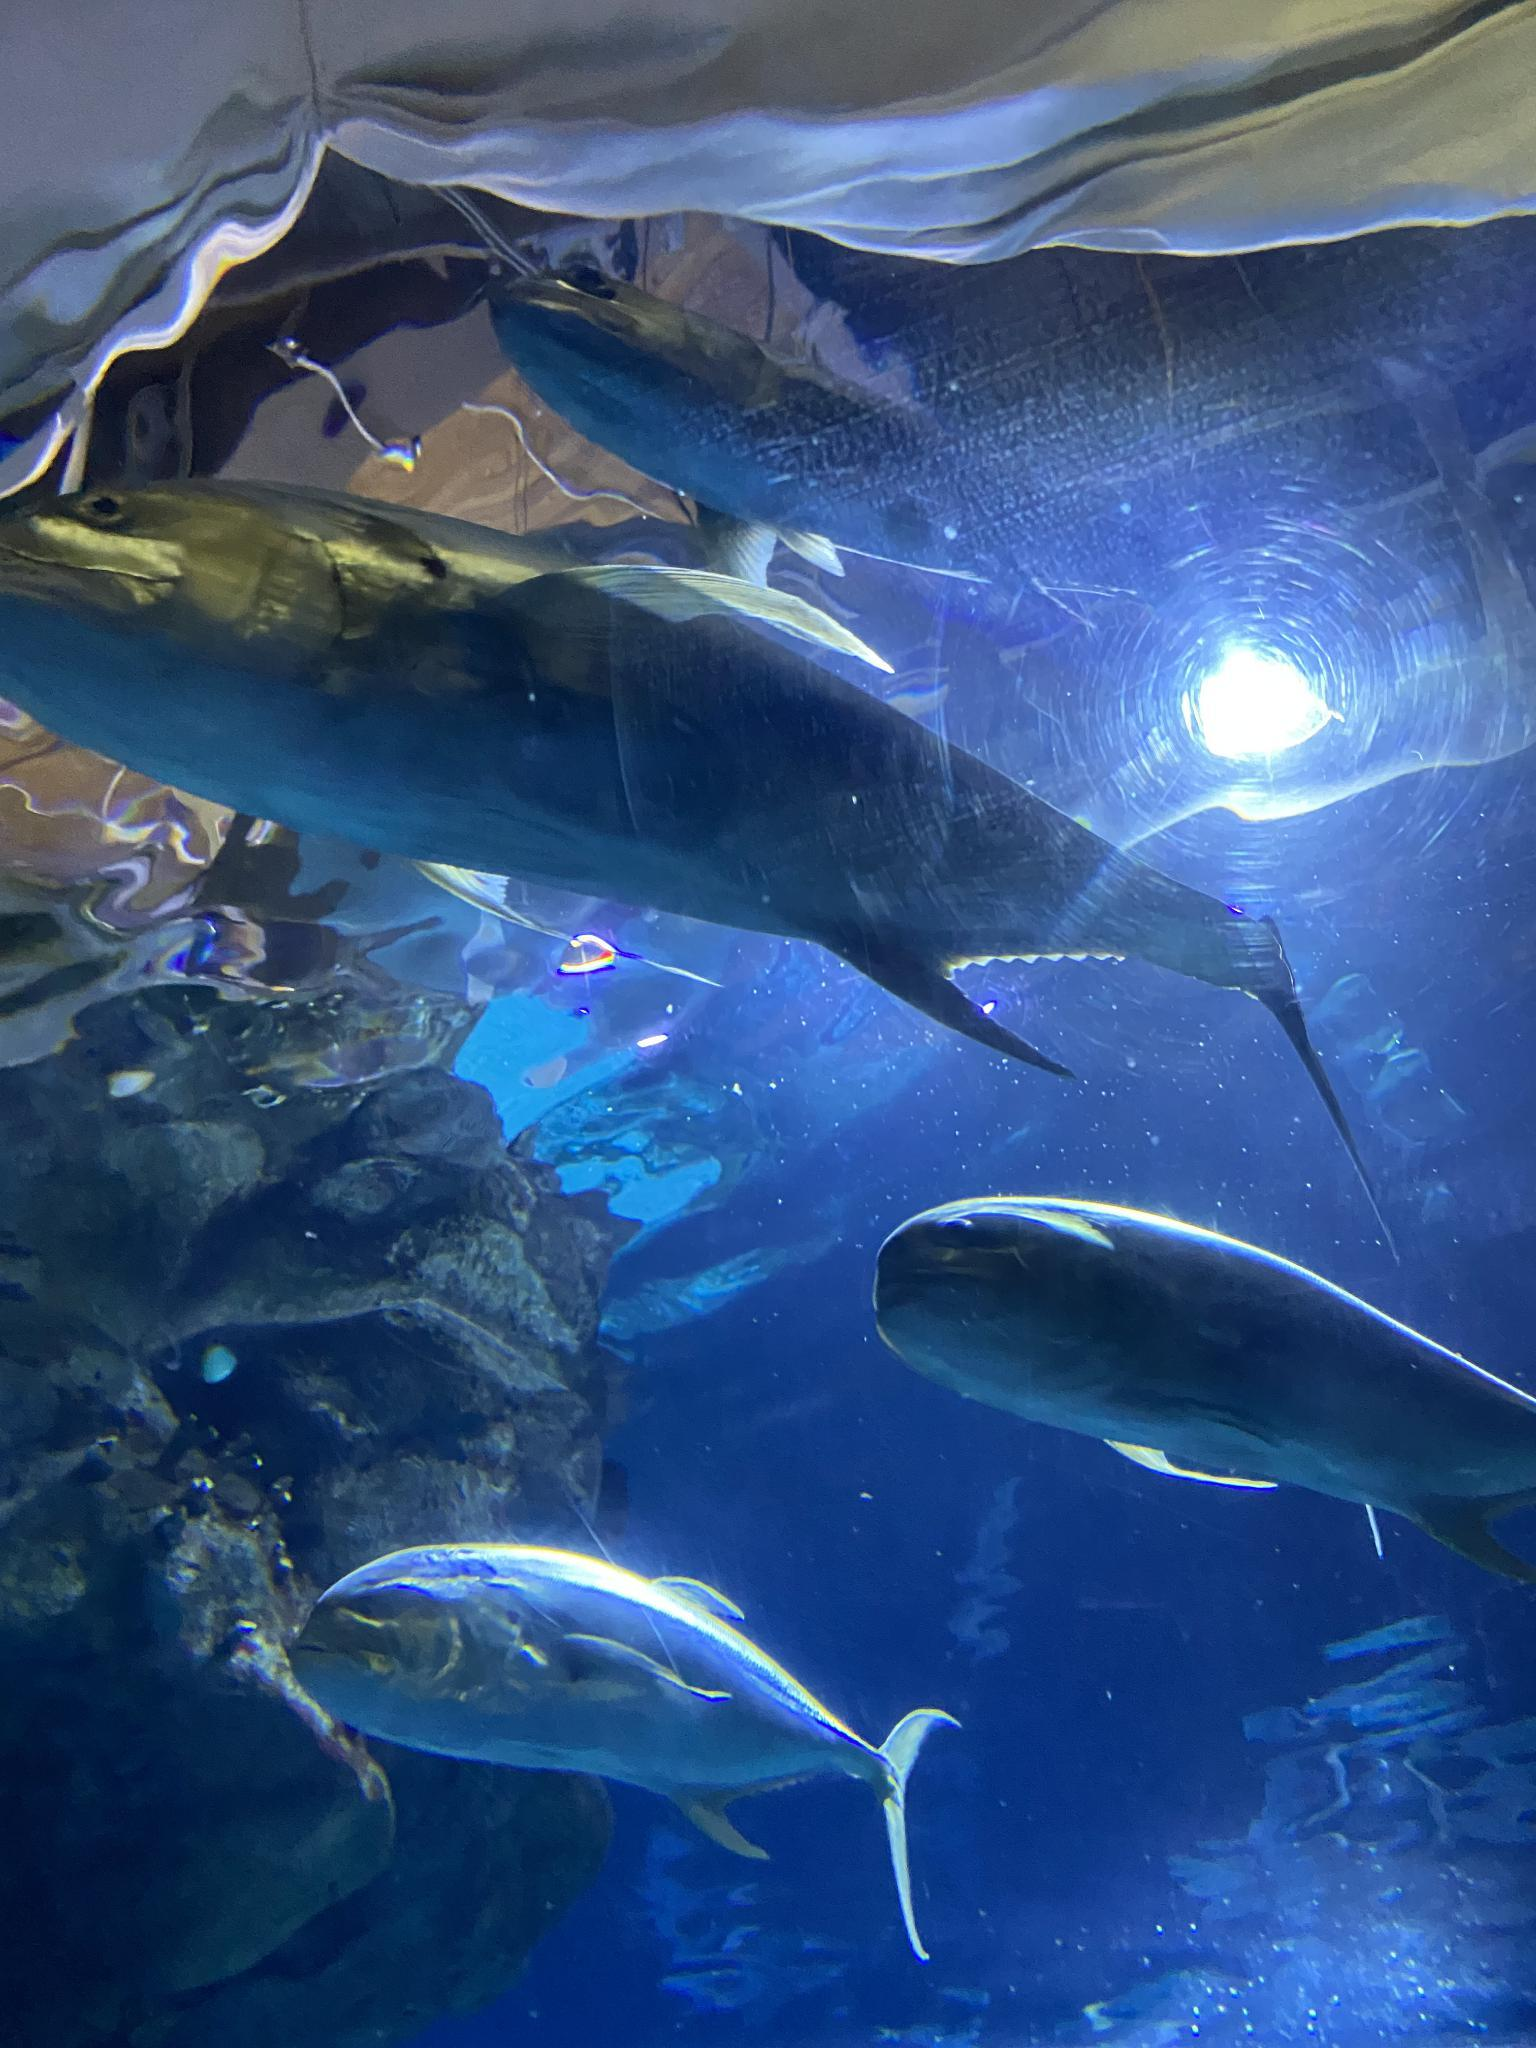fish: (0, 477, 1400, 1077), (295, 1543, 958, 1959), (874, 1197, 1536, 1584)
